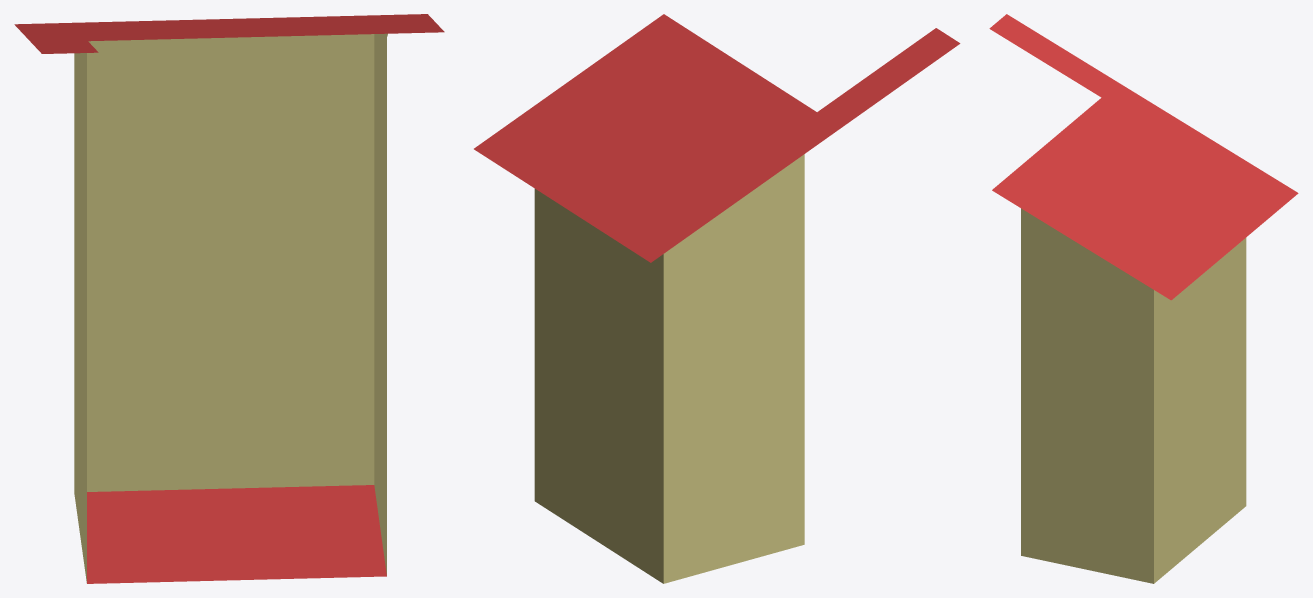
The picture shows the model from 3 angles, left to right: view 1: azimuth 30°, elevation 25°; view 2: azimuth 150°, elevation 25°; view 3: azimuth 270°, elevation 25°; orthographic projection. The views are drawn at different scales.
Size of the model in its own units: 7.7 by 5.95 by 8.97.
